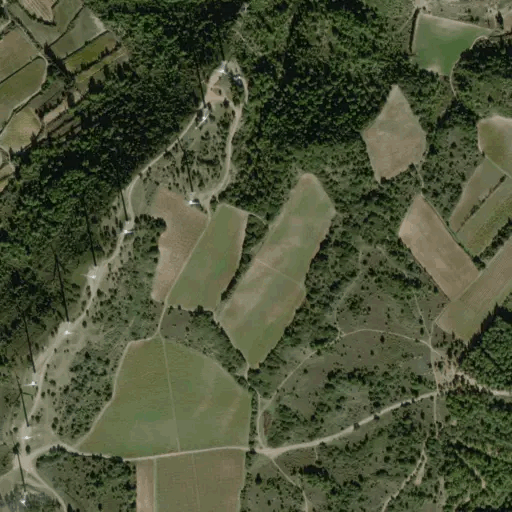wt: (51, 249, 77, 339), (173, 143, 202, 216), (20, 305, 44, 393), (10, 438, 39, 505), (79, 193, 98, 287), (14, 376, 37, 445), (205, 27, 234, 77), (116, 176, 134, 243), (191, 101, 212, 133)
